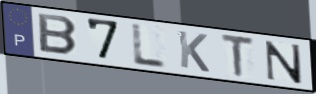7: (84, 16, 121, 63)
B: (36, 11, 80, 57)
K: (176, 29, 212, 74)
L: (131, 23, 169, 70)
N: (264, 39, 304, 85)
T: (220, 33, 257, 79)
